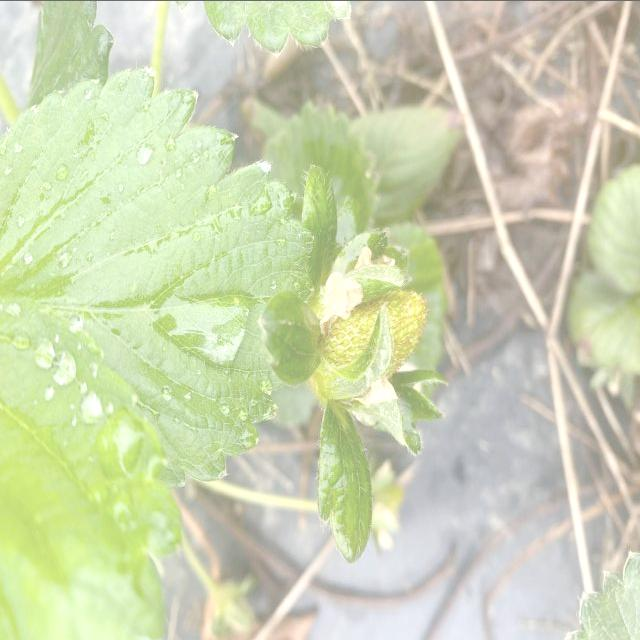flower: (0, 61, 320, 640), (303, 231, 443, 549)
